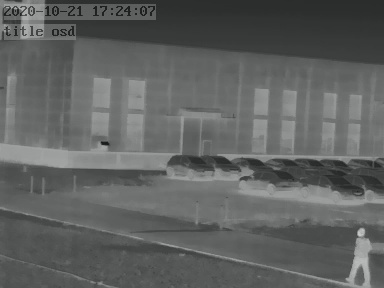person: (347, 226, 373, 286)
vehicle: (237, 169, 303, 195), (304, 173, 359, 201), (164, 153, 213, 179), (204, 153, 242, 177), (349, 174, 382, 200), (233, 155, 269, 171), (348, 155, 379, 170), (262, 156, 295, 169), (319, 156, 347, 169), (296, 156, 324, 169)
